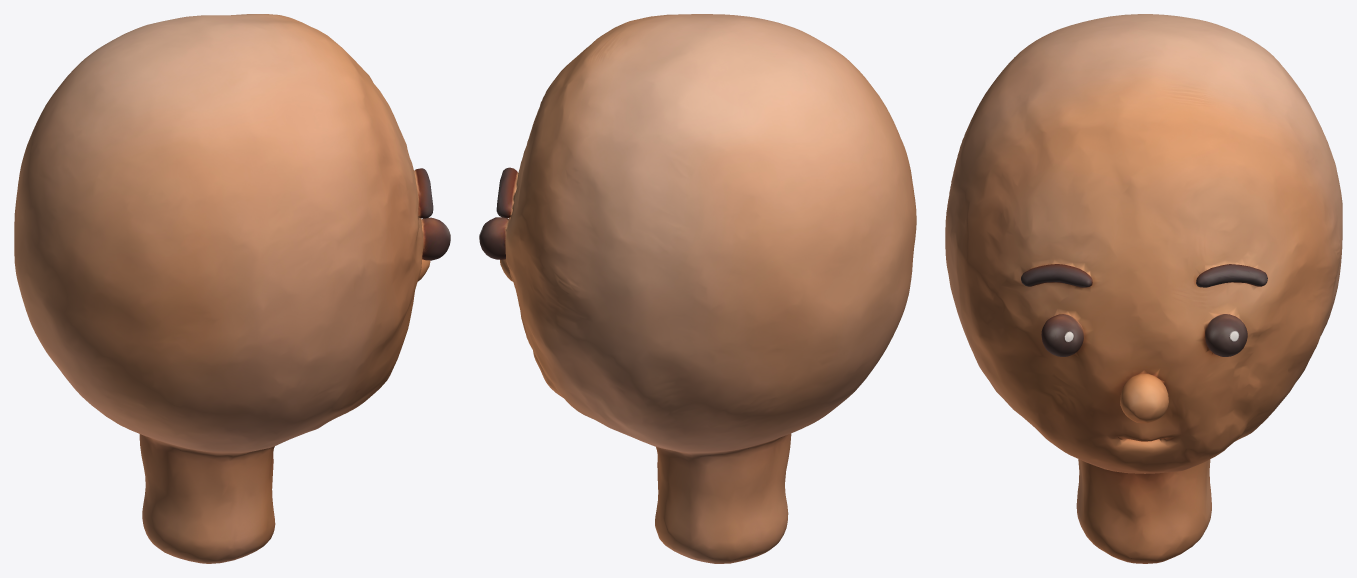
The model's file is head_girl.glb.
3 renders of one model, left to right at view 1: azimuth 30°, elevation 25°; view 2: azimuth 150°, elevation 25°; view 3: azimuth 270°, elevation 25°, orthographic.
Parts seen in each view (by area): view 1: tripo_node_fe90f9fc-ec82-4427-8ca9-181f2b80dda6; view 2: tripo_node_fe90f9fc-ec82-4427-8ca9-181f2b80dda6; view 3: tripo_node_fe90f9fc-ec82-4427-8ca9-181f2b80dda6.
Part boxes in pixels (left/top/right/bottom): tripo_node_fe90f9fc-ec82-4427-8ca9-181f2b80dda6: left=14, top=14, right=450, bottom=563; tripo_node_fe90f9fc-ec82-4427-8ca9-181f2b80dda6: left=479, top=14, right=916, bottom=563; tripo_node_fe90f9fc-ec82-4427-8ca9-181f2b80dda6: left=945, top=14, right=1342, bottom=563.
Size of the model in its own units: 0.7898 by 1 by 0.7003.
Materials: 1 (1 with a texture image).
